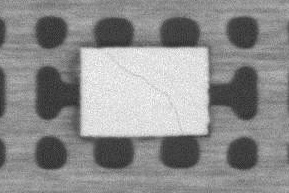DIE_CRACK: (107, 51, 183, 134)
